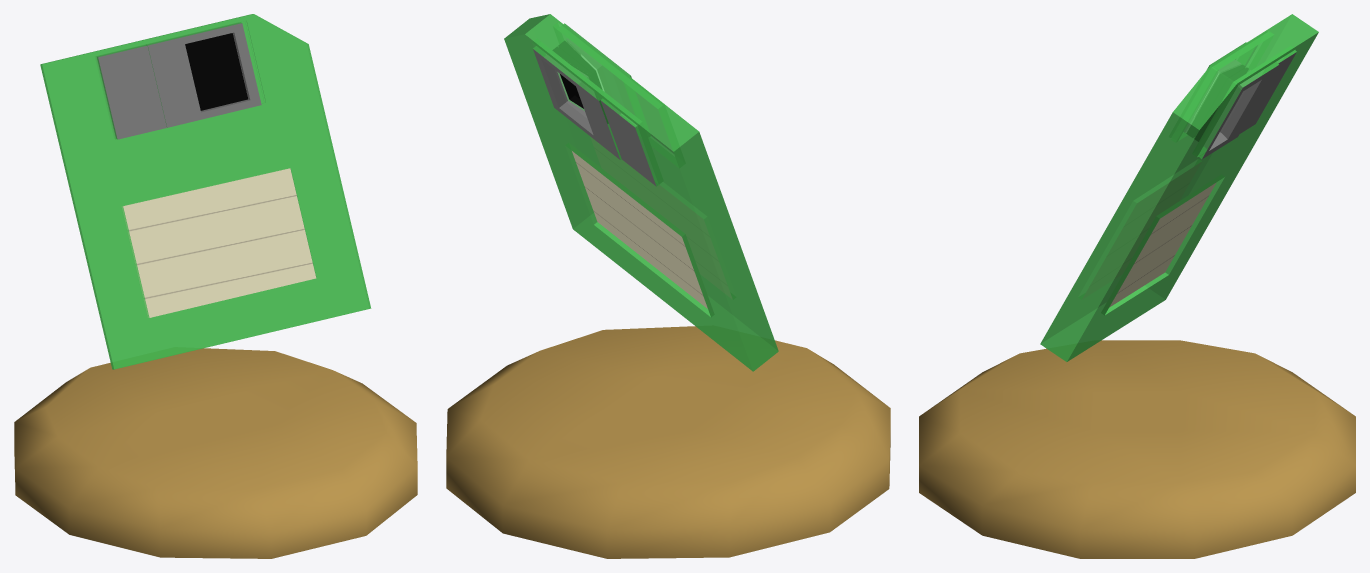
File: MOD_Pickup.fbx
3 renders of one model, left to right at view 1: azimuth 30°, elevation 25°; view 2: azimuth 150°, elevation 25°; view 3: azimuth 270°, elevation 25°, orthographic. The views are drawn at different scales.
Visible parts, largest first — view 1: kevin_pickup_base, body, label, gat, metal; view 2: kevin_pickup_base, body, label_back, label, gat_back, metal_back, gat, metal; view 3: kevin_pickup_base, body, label_back, label, gat_back, gat, metal_back.
Part boxes in pixels (box(x1,y1,x2,y2)): kevin_pickup_base: box(14, 348, 417, 558); body: box(40, 14, 371, 369); label: box(123, 168, 316, 317); gat: box(148, 23, 261, 127); metal: box(98, 45, 166, 139); kevin_pickup_base: box(446, 326, 890, 558); body: box(504, 14, 778, 371); label_back: box(572, 151, 707, 308); label: box(591, 137, 731, 298); gat_back: box(533, 47, 620, 159); metal_back: box(600, 100, 656, 186); gat: box(559, 24, 634, 114); metal: box(636, 92, 673, 153); kevin_pickup_base: box(919, 340, 1355, 558); body: box(1040, 14, 1318, 361); label_back: box(1109, 182, 1216, 307); label: box(1083, 163, 1200, 298); gat_back: box(1194, 65, 1278, 158); gat: box(1184, 43, 1244, 137); metal_back: box(1240, 52, 1296, 133).
Size of the model in its own units: 0.7059 by 0.8081 by 0.7249.
Materials: 3 (1 with a texture image).
